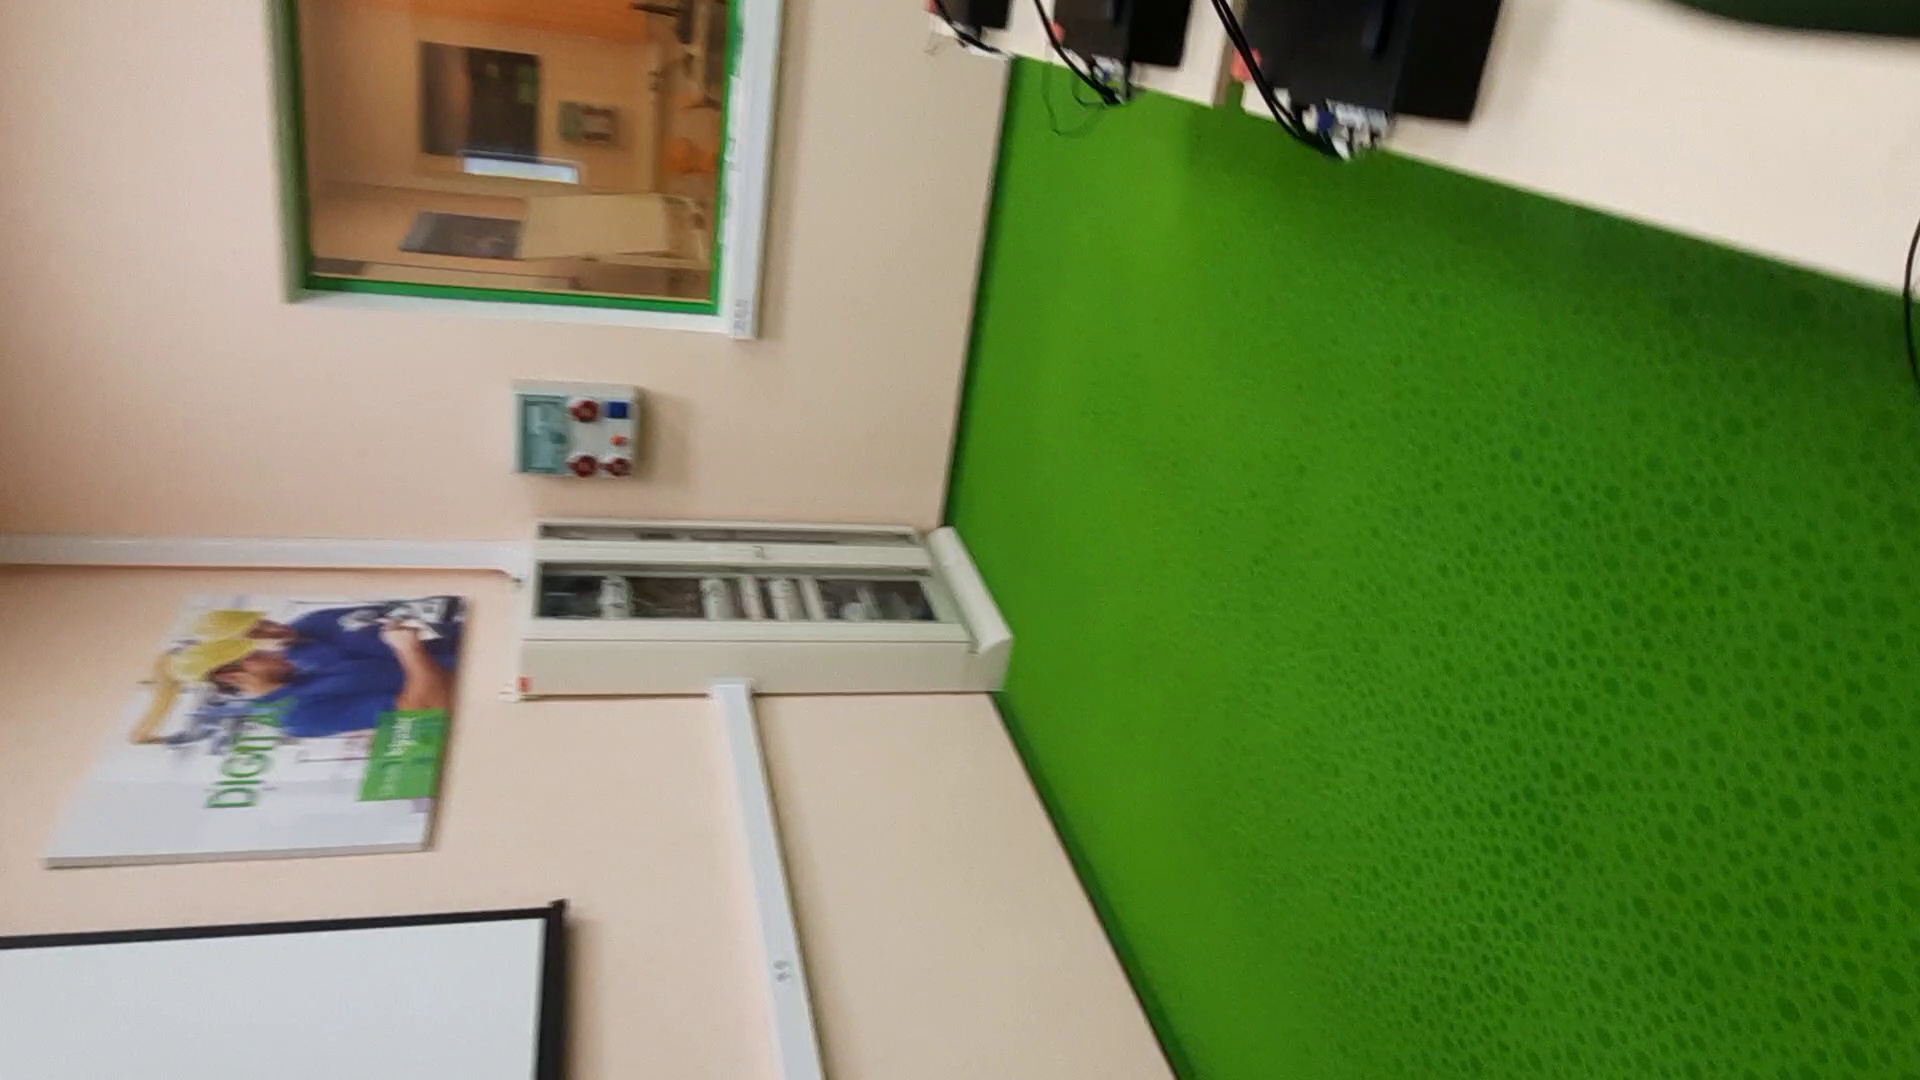stand1: (512, 514, 1018, 704)
